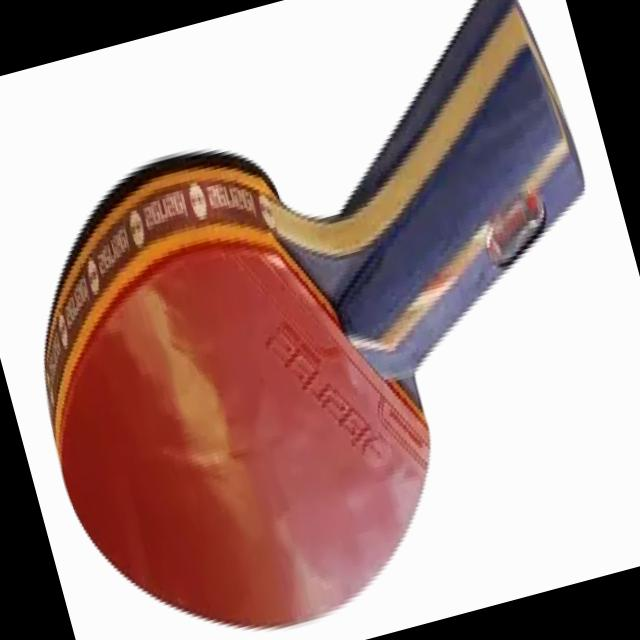TT Racket: (0, 0, 534, 640)
